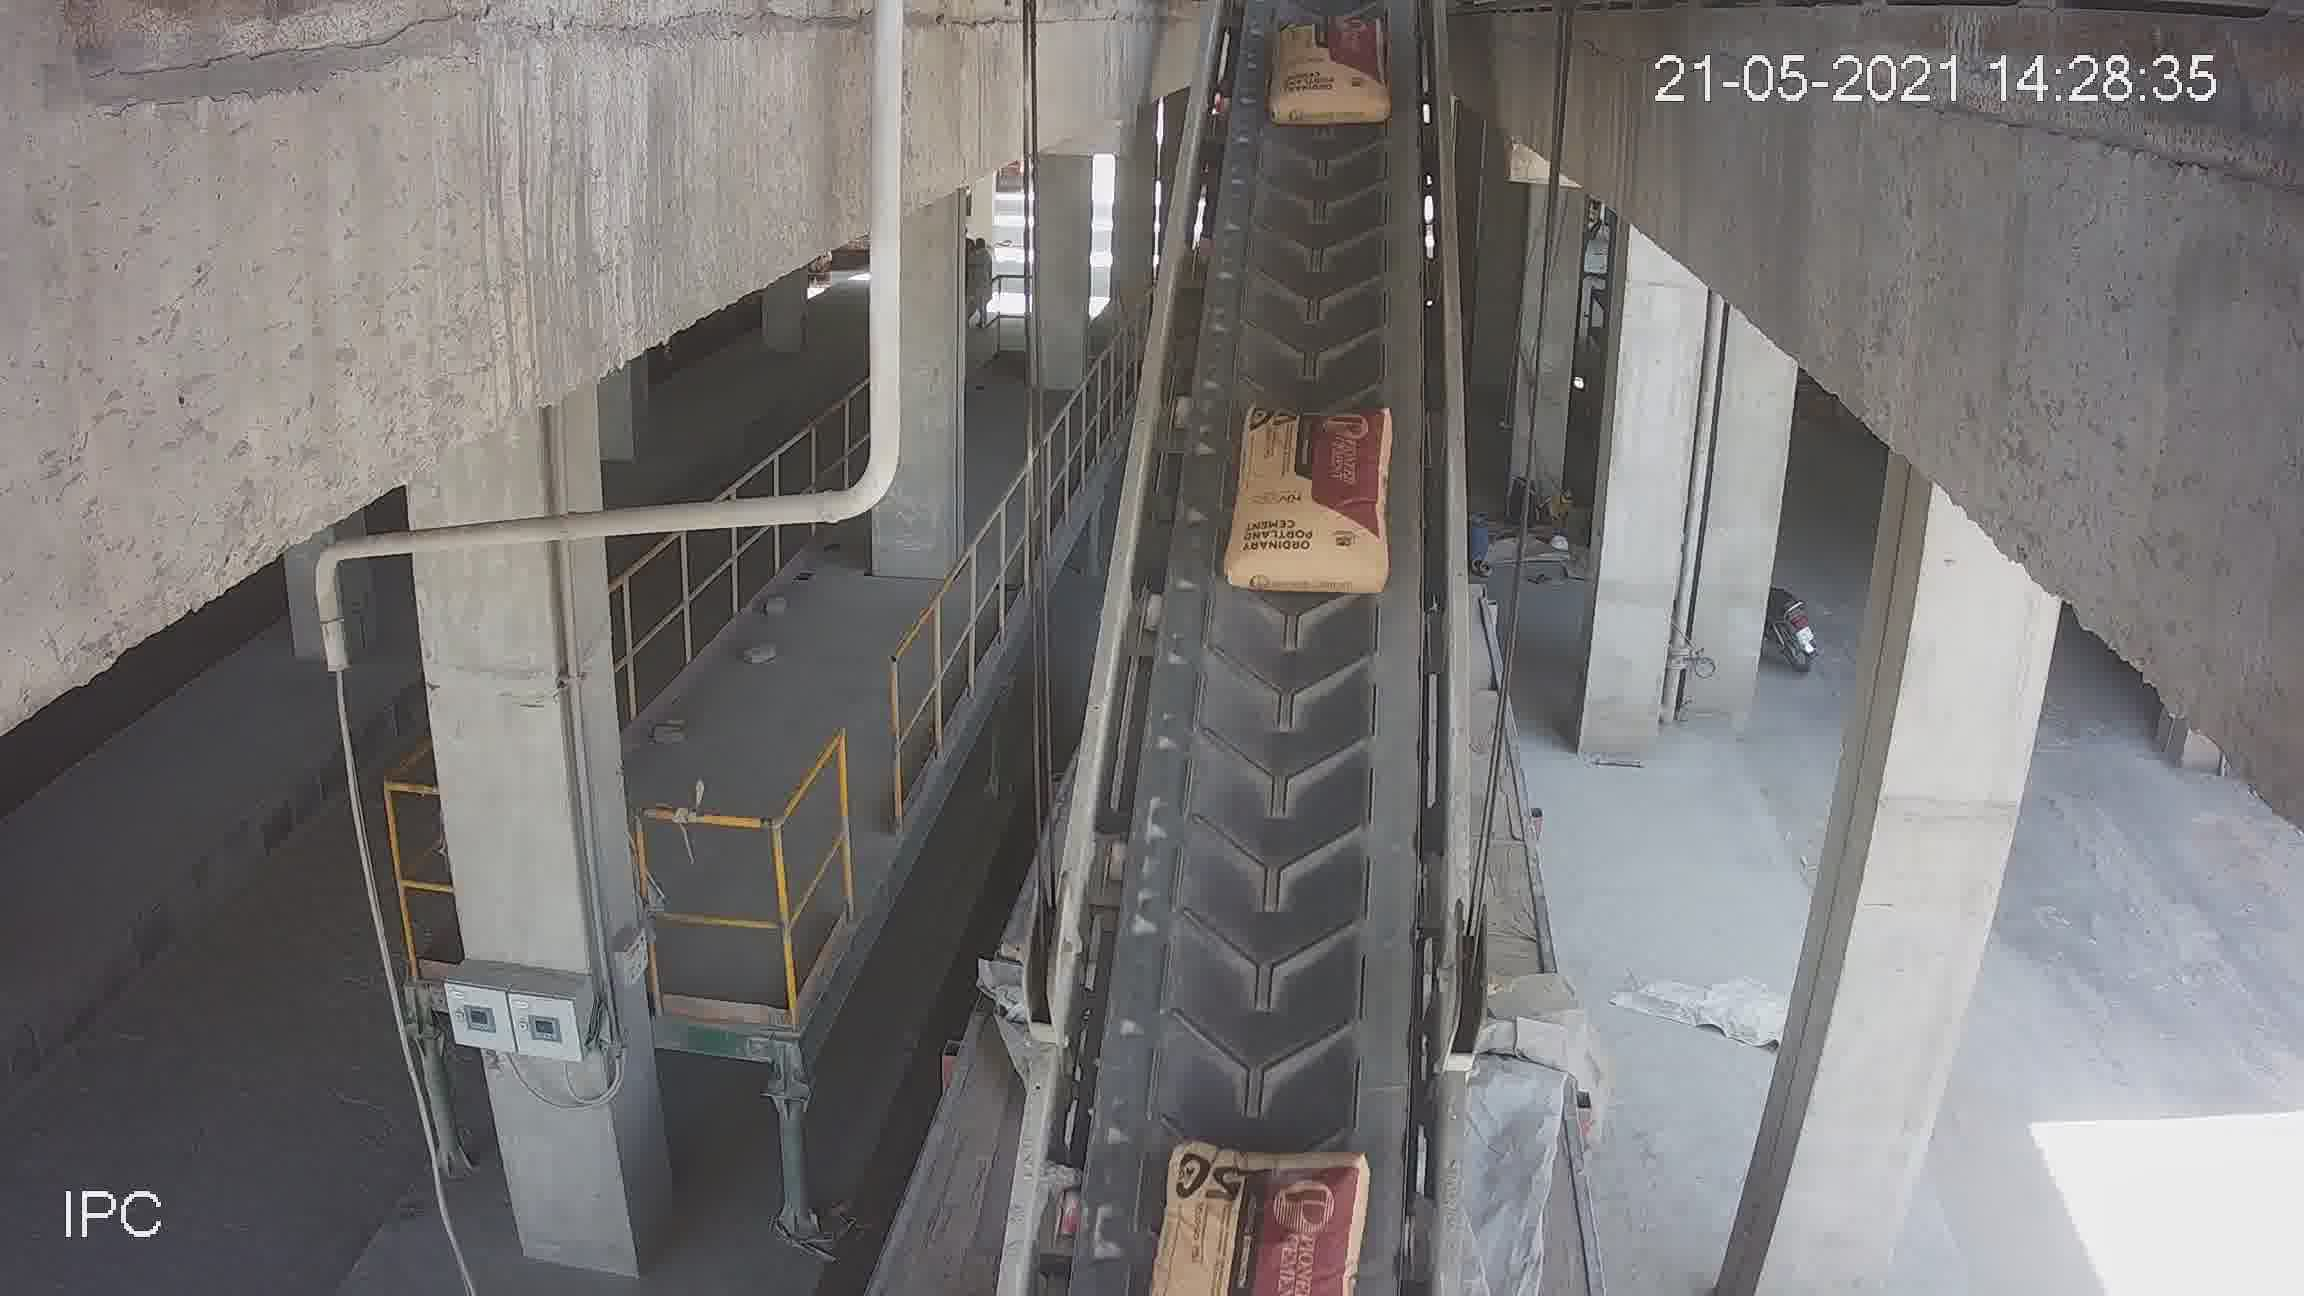bag: (1157, 1146, 1369, 1294), (1237, 408, 1393, 601), (1282, 25, 1381, 112)
belt: (1044, 40, 1461, 1271)
